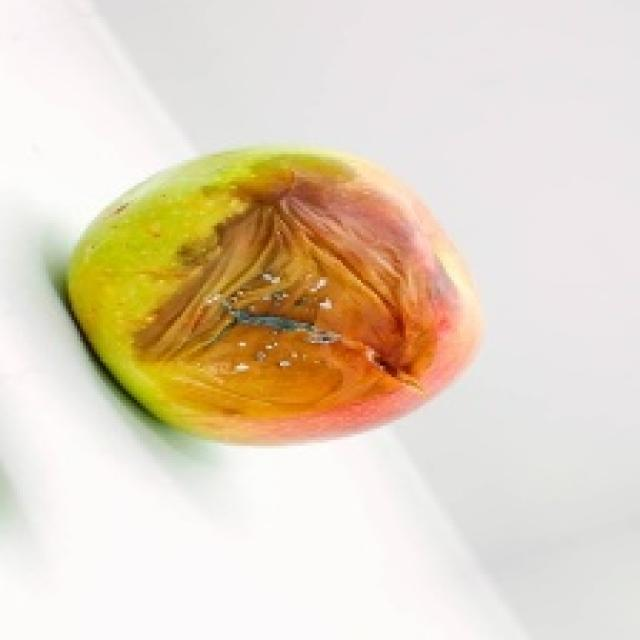rotten_apple: (73, 154, 474, 440)
